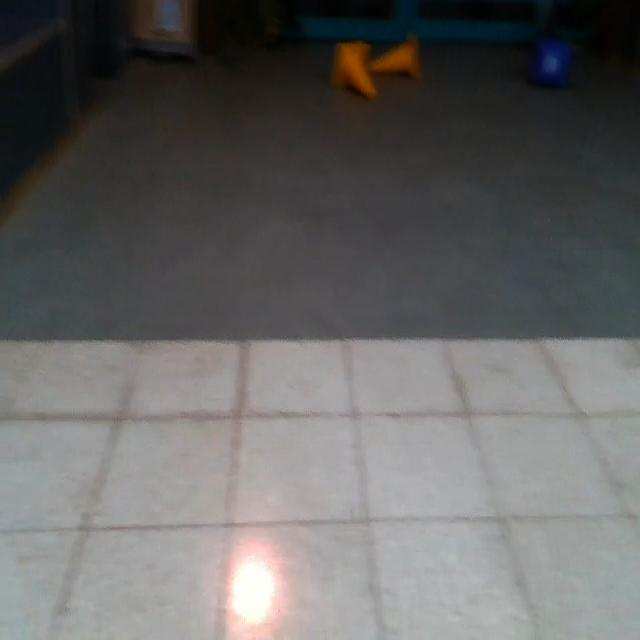cone: (364, 29, 424, 83), (332, 38, 380, 105)
cube: (530, 36, 573, 90)
